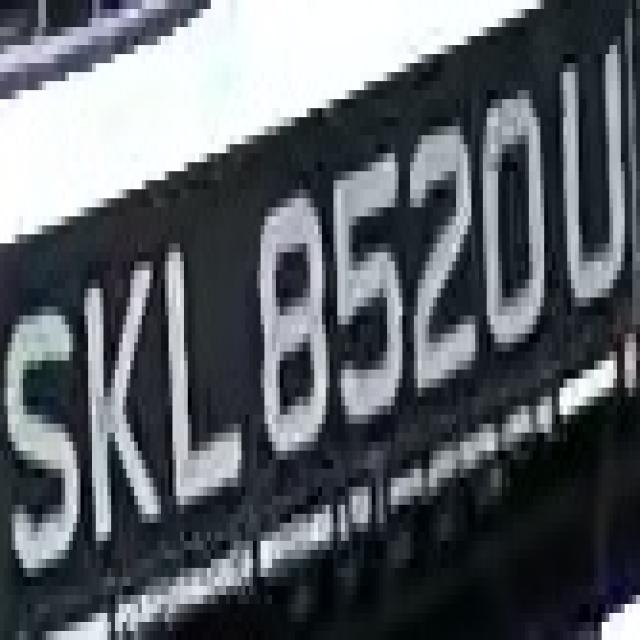0: (464, 81, 556, 370)
2: (402, 99, 479, 442)
5: (322, 153, 421, 442)
8: (242, 171, 341, 469)
K: (76, 234, 165, 586)
L: (161, 198, 245, 541)
S: (4, 270, 84, 613)
U: (548, 27, 629, 334)
